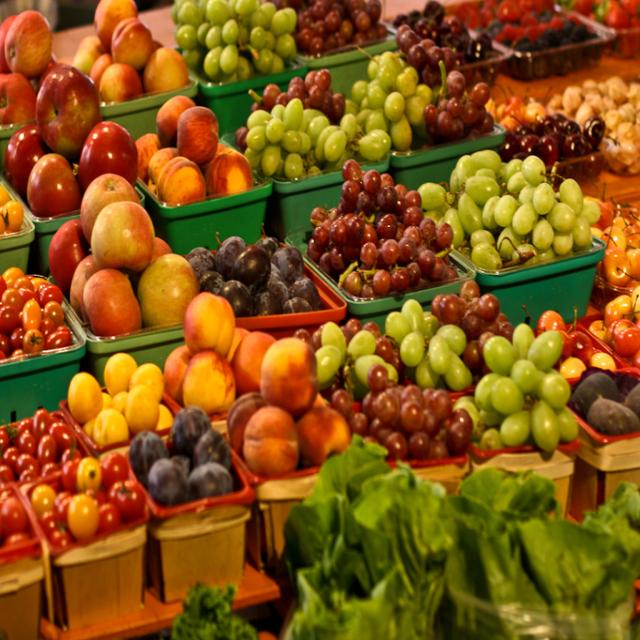Peach: (228, 338, 353, 478), (164, 292, 276, 418), (138, 95, 254, 201), (75, 0, 189, 100)
